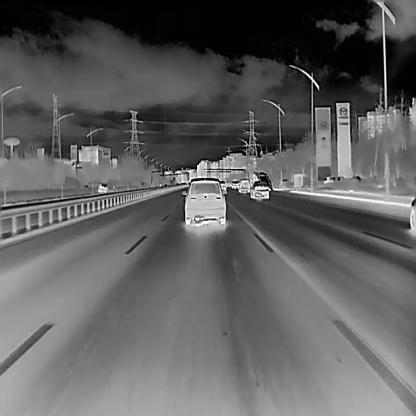car: (181, 176, 226, 226), (251, 170, 272, 193), (248, 180, 270, 199), (323, 173, 346, 183), (238, 177, 250, 193), (96, 182, 107, 194), (217, 180, 226, 190), (230, 180, 239, 189)
